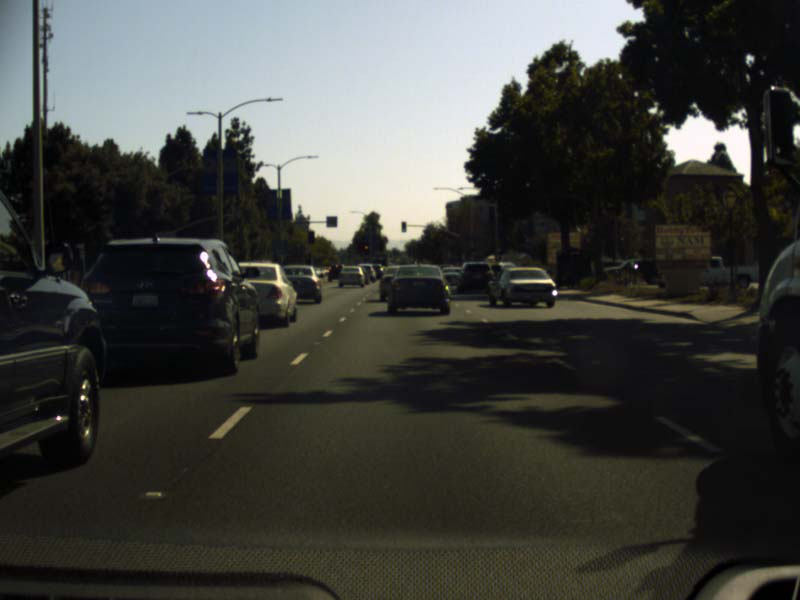Green: (497, 241, 502, 254)
Yellow: (363, 242, 369, 254)
